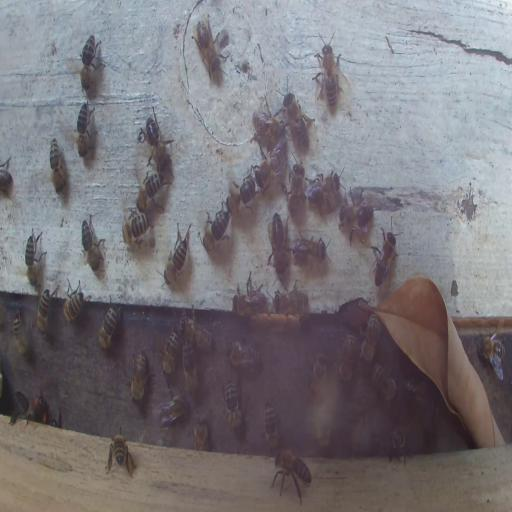bee: (192, 15, 230, 84), (311, 35, 346, 109), (368, 218, 402, 288), (269, 448, 313, 502), (338, 186, 373, 243), (142, 106, 173, 168), (194, 208, 231, 256), (306, 165, 341, 215), (283, 90, 314, 144), (252, 98, 283, 151), (165, 222, 192, 281), (81, 215, 106, 277), (79, 34, 104, 92), (105, 430, 135, 478), (276, 281, 308, 326), (291, 232, 330, 268), (137, 167, 169, 210), (24, 228, 46, 290), (252, 147, 284, 189), (232, 271, 261, 317), (98, 296, 122, 350), (478, 333, 506, 379), (75, 99, 96, 160), (226, 182, 259, 220), (370, 360, 398, 402), (405, 380, 431, 424), (62, 278, 86, 325), (186, 307, 212, 350), (224, 338, 260, 369), (130, 348, 149, 406), (121, 210, 151, 246), (268, 212, 288, 266), (287, 159, 306, 215), (360, 313, 381, 361), (182, 334, 198, 396), (224, 379, 242, 434), (307, 354, 327, 403), (339, 332, 356, 386), (49, 137, 65, 194), (158, 396, 186, 428), (36, 286, 52, 338), (389, 426, 408, 465), (162, 326, 177, 375), (14, 309, 29, 357), (264, 398, 278, 447), (193, 416, 208, 452), (0, 156, 12, 193), (32, 395, 46, 421), (16, 392, 30, 416)
